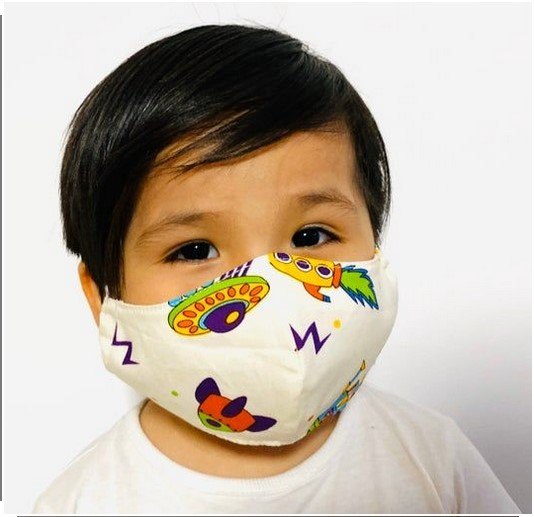face_with_mask: (66, 74, 399, 451)
